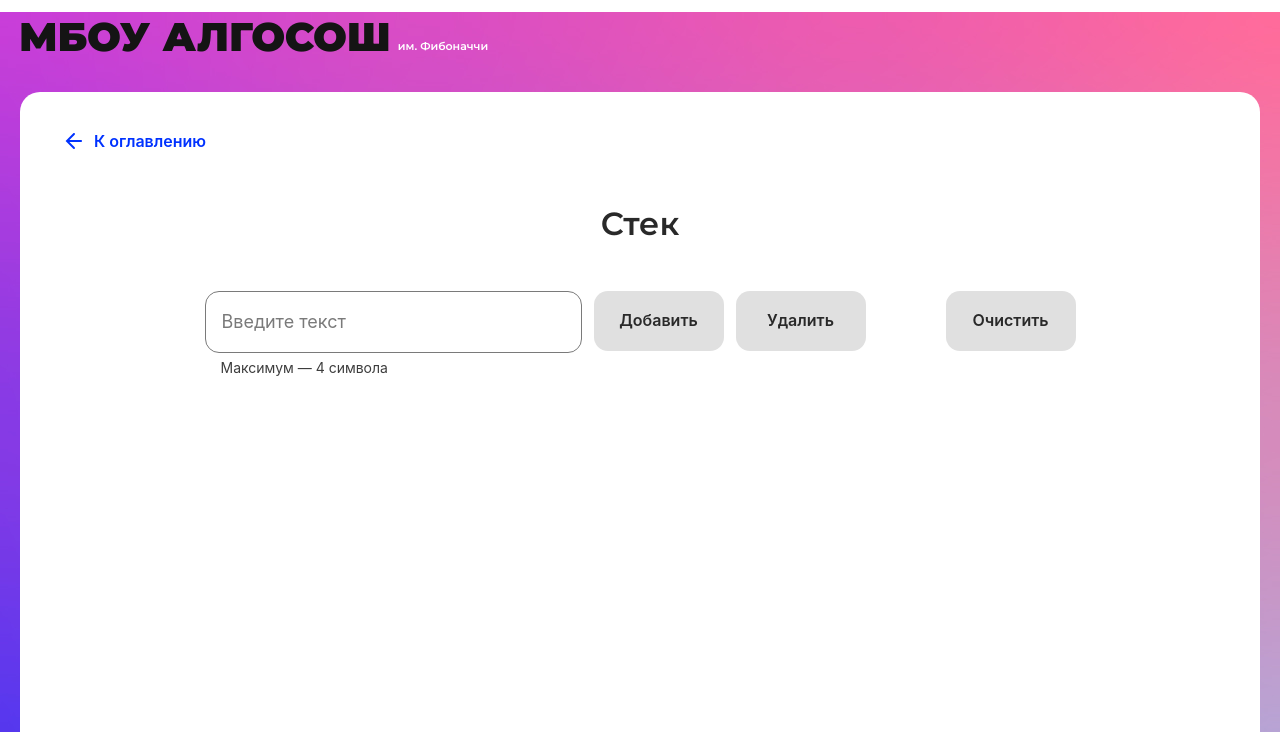
Test: stack test › reset stack
In the field with test id "input": (394, 322) [205,291,582,353], type "A"
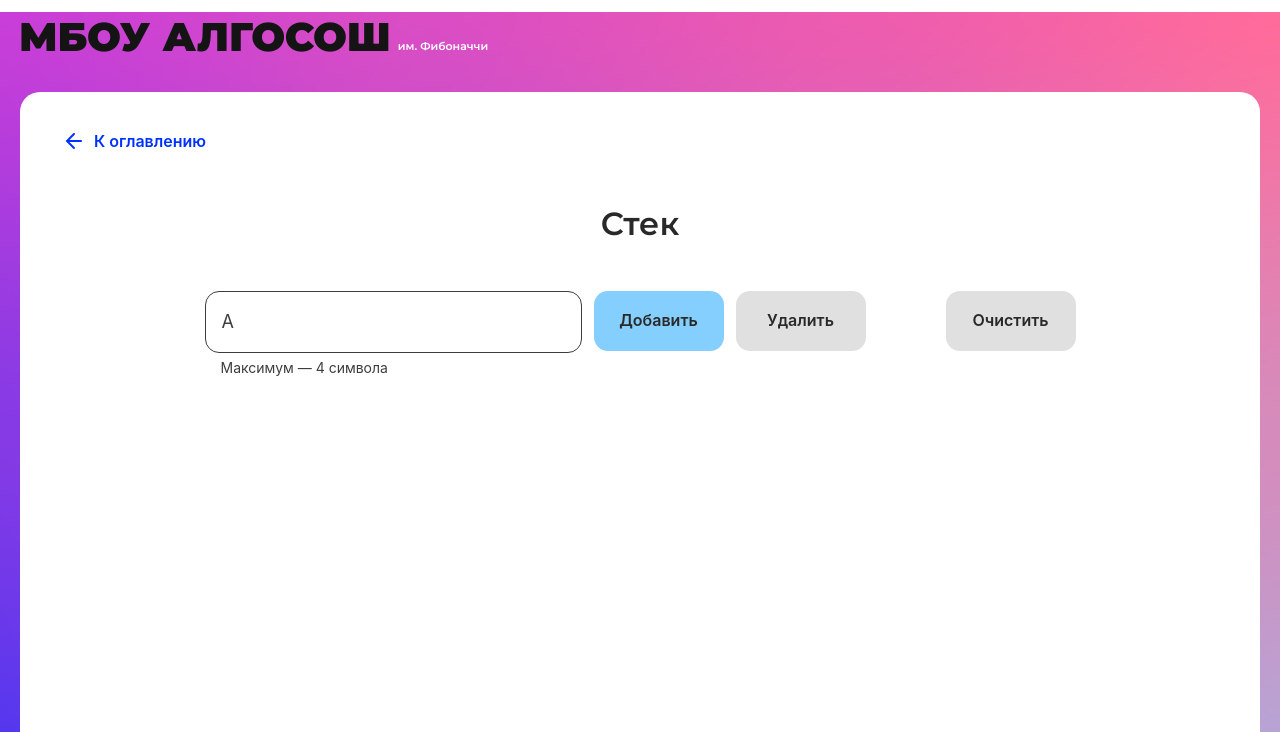
Click the button with test id "button-add": click(659, 321) [594,291,724,351]
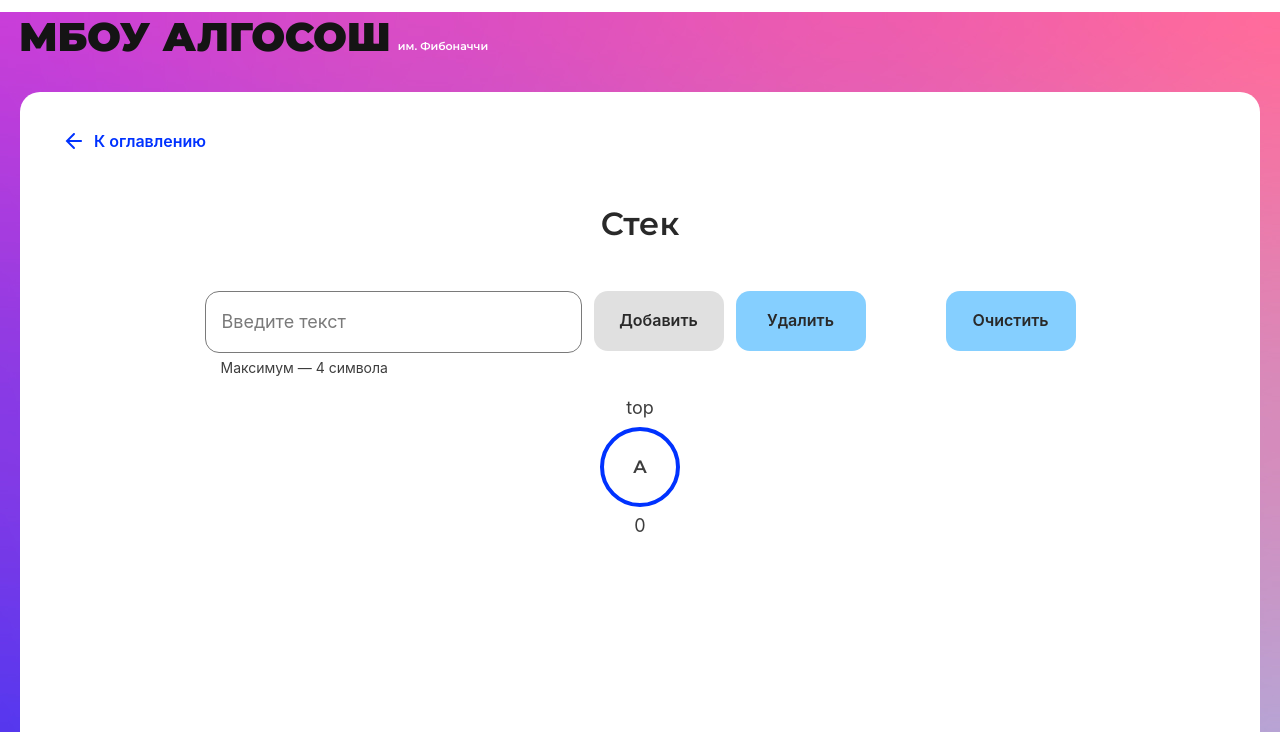
In the field with test id "input": (394, 322) [205,291,582,353], type "B"
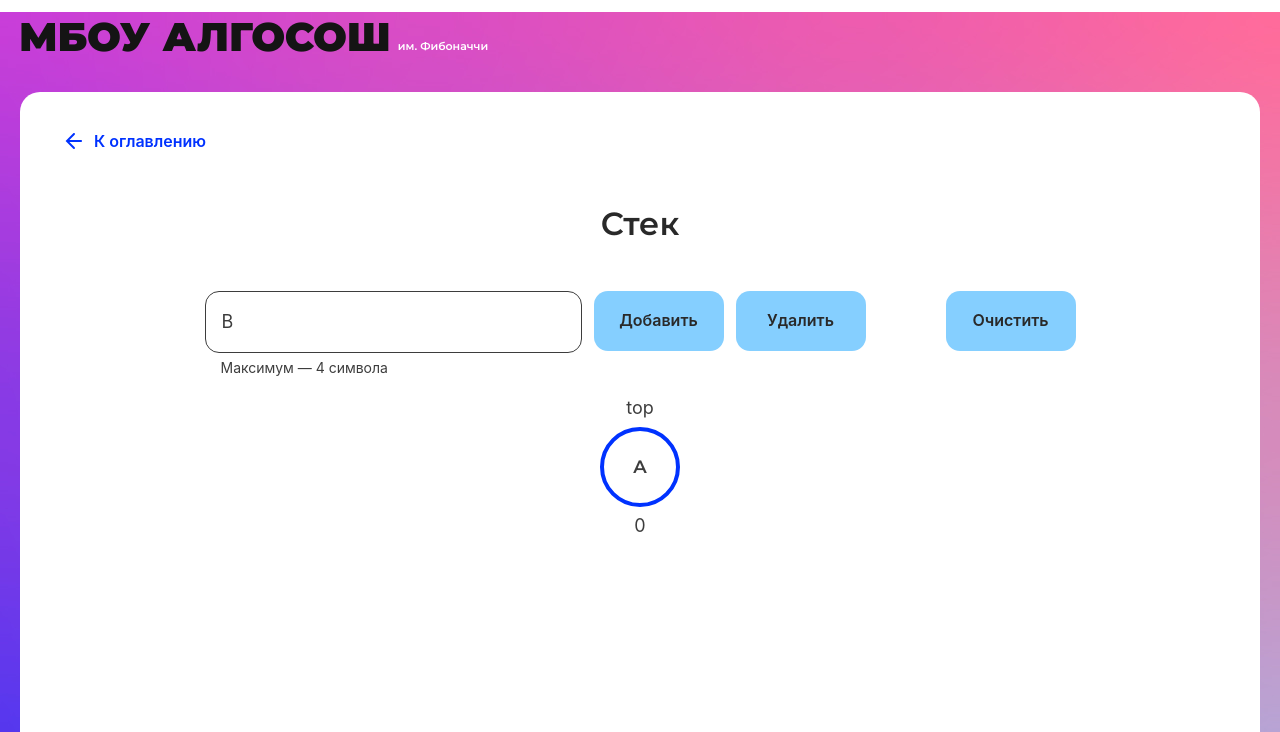
Click the button with test id "button-add": click(659, 321) [594,291,724,351]
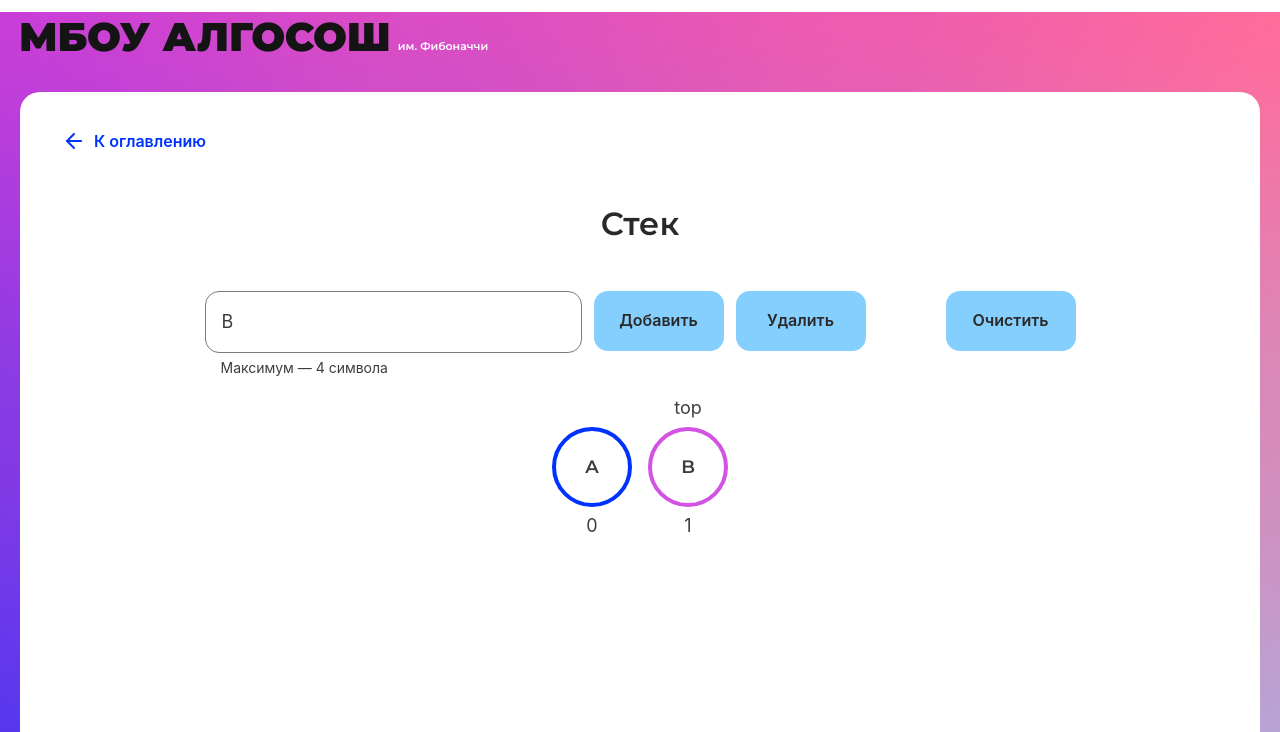
Click the button with test id "button-reset": click(1011, 321) [946,291,1076,351]
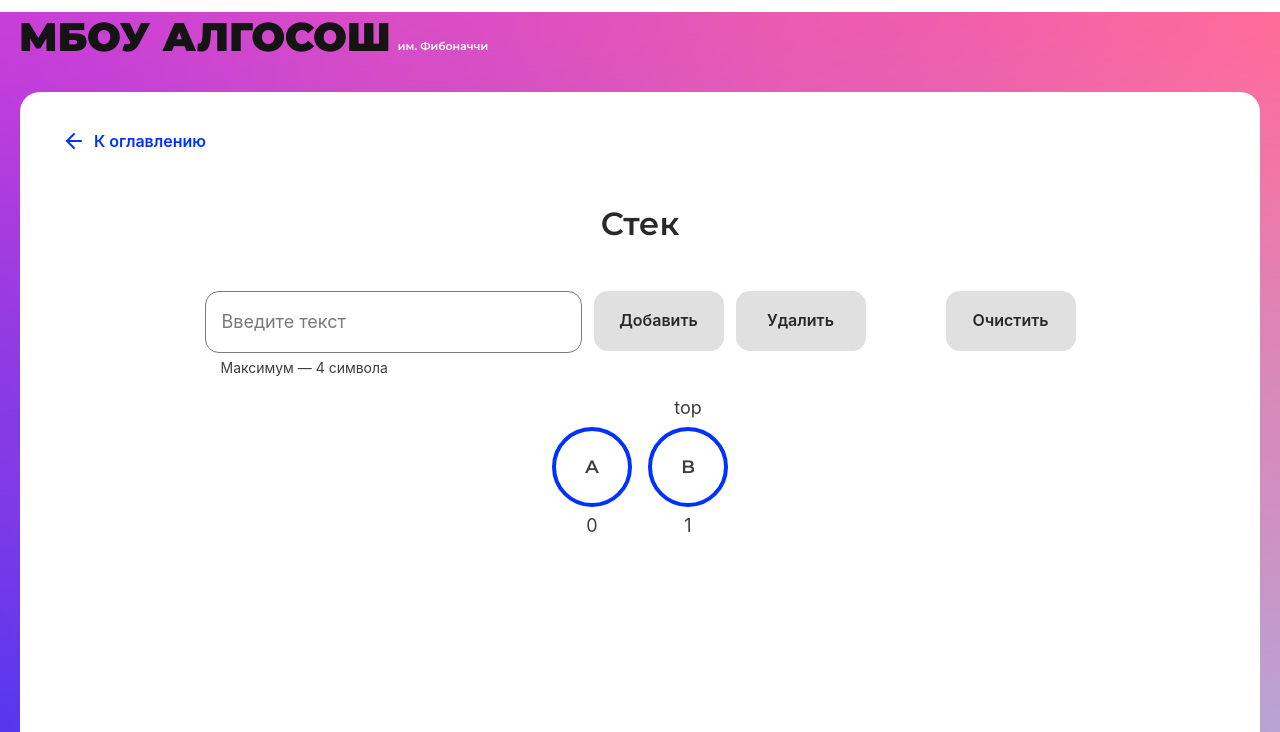
Check: the button with test id "button-add" is disabled, box [594,291,724,351]
Check: the button with test id "button-delete" is disabled, box [736,291,866,351]
Check: the button with test id "button-reset" is disabled, box [946,291,1076,351]
